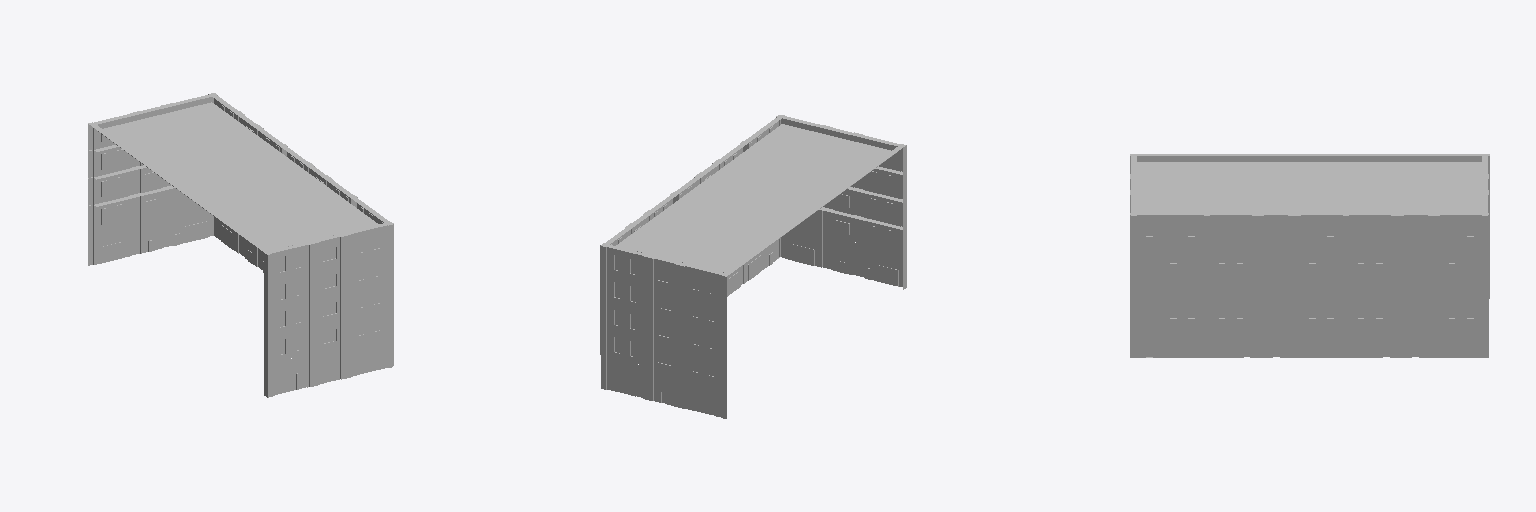
Rendered from LongShortBuilding1.obj.
3 renders of one model, left to right at view 1: azimuth 30°, elevation 25°; view 2: azimuth 150°, elevation 25°; view 3: azimuth 270°, elevation 25°, orthographic.
Parts seen in each view (by area): view 1: LongShortBuilding1; view 2: LongShortBuilding1; view 3: LongShortBuilding1.
Part boxes in pixels (x1,y1,x2,y2): LongShortBuilding1: (88,93,393,397); LongShortBuilding1: (600,115,906,418); LongShortBuilding1: (1130,154,1489,357).
Bounding box in the file's own units: 24.2 × 26 × 69.2.